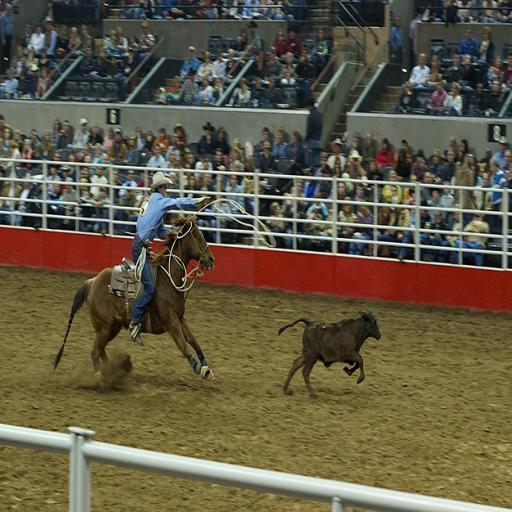horse: (49, 212, 215, 382)
